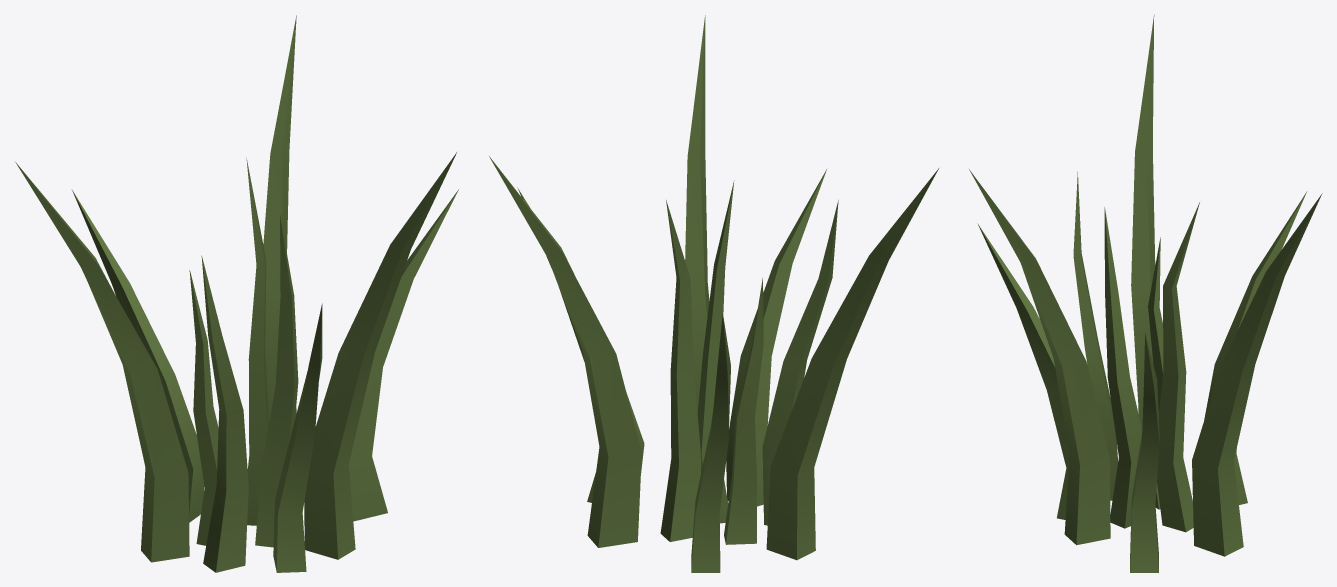
File: Grass_02.FBX
The picture shows the model from 3 angles, left to right: view 1: azimuth 30°, elevation 25°; view 2: azimuth 150°, elevation 25°; view 3: azimuth 270°, elevation 25°; orthographic projection. The views are drawn at different scales.
Parts seen in each view (by area): view 1: Grass_02; view 2: Grass_02; view 3: Grass_02.
Part boxes in pixels (bbox=[...]): Grass_02: bbox=[15, 15, 458, 572]; Grass_02: bbox=[489, 15, 938, 572]; Grass_02: bbox=[969, 14, 1322, 572].
Bounding box in the file's own units: 1.53 × 1.43 × 1.16.
1 material, 1 textured.
